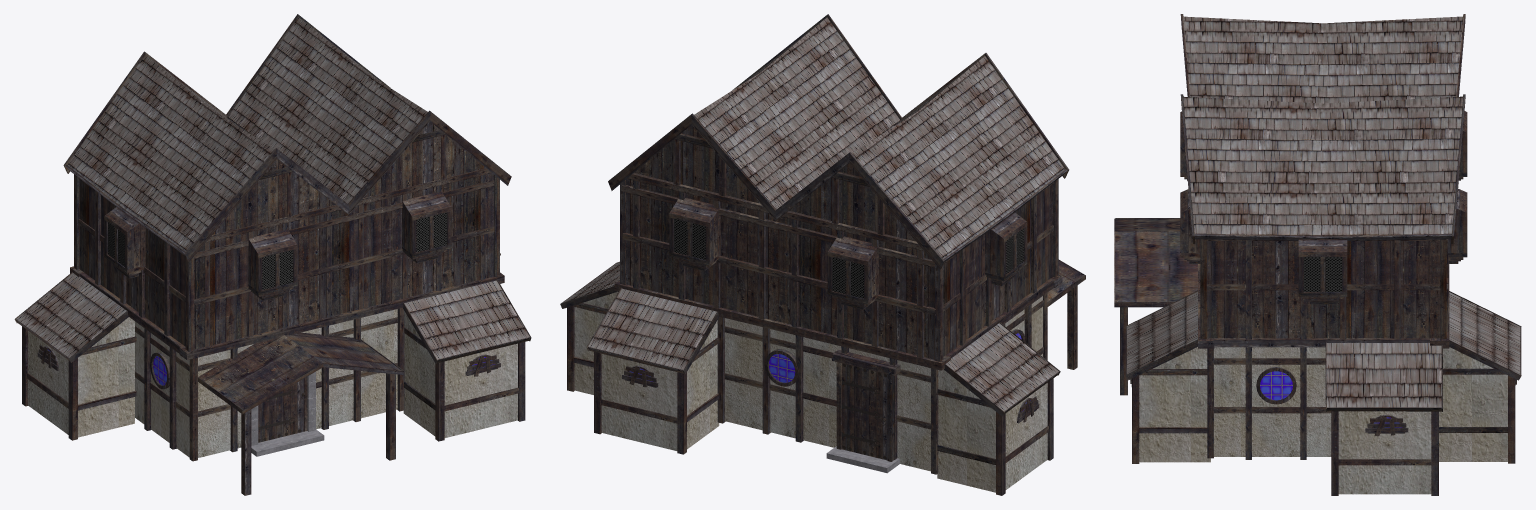
Rendered from house45.dae.
3 renders of one model, left to right at view 1: azimuth 30°, elevation 25°; view 2: azimuth 150°, elevation 25°; view 3: azimuth 270°, elevation 25°, orthographic. The views are drawn at different scales.
Parts seen in each view (by area): view 1: House1_Roof, House1_Level2, House1_Level2_Beams, House1_Level1, BuildingExtensions4_003, BuildingExtensions4, Roof1Outer, House1_Level1_Beams, BuildingExtensions4Roof, House1_Roof_Frame, BuildingExtensions4Roof_003, House1_Level1_SeperatorBeams (+14 smaller); view 2: House1_Roof, House1_Level2, House1_Level2_Beams, House1_Level1, BuildingExtensions4_003, BuildingExtensions4_001, BuildingExtensions4Roof_001, House1_Level1_Beams, House1_Roof_Frame, BuildingExtensions4Roof_003, Door1, House1_Level1_SeperatorBeams (+16 smaller); view 3: House1_Roof, House1_Level2, House1_Level1, BuildingExtensions4Roof_002, BuildingExtensions4_002, BuildingExtensions4, BuildingExtensions4_001, Roof1Outer, House1_Level2_Beams, House1_Level1_Beams, BuildingExtensions4Roof_001, BuildingExtensions4Roof (+17 smaller).
Part boxes in pixels (x1,y1,x2,y2): House1_Roof: (67,17,427,251); House1_Level2: (79,121,493,349); House1_Level2_Beams: (74,130,499,351); House1_Level1: (135,309,397,457); BuildingExtensions4_003: (28,317,134,437); BuildingExtensions4: (403,311,517,437); Roof1Outer: (198,332,401,409); House1_Level1_Beams: (135,307,404,461); BuildingExtensions4Roof: (404,280,529,359); House1_Roof_Frame: (63,14,511,261); BuildingExtensions4Roof_003: (16,273,130,357); House1_Level1_SeperatorBeams: (70,266,504,360); House1_Roof: (694,17,1065,258); House1_Level2: (626,125,1052,359); House1_Level2_Beams: (620,133,1058,361); House1_Level1: (725,296,1042,471); BuildingExtensions4_003: (937,369,1047,492); BuildingExtensions4_001: (601,320,719,450); BuildingExtensions4Roof_001: (588,288,716,369); House1_Level1_Beams: (717,292,1047,474); House1_Roof_Frame: (608,14,1069,269); BuildingExtensions4Roof_003: (946,320,1058,411); Door1: (841,363,887,460); House1_Level1_SeperatorBeams: (614,274,1062,370); House1_Roof: (1183,16,1463,235); House1_Level2: (1206,241,1440,338); House1_Level1: (1214,347,1331,456); BuildingExtensions4Roof_002: (1326,343,1441,407); BuildingExtensions4_002: (1338,411,1431,494); BuildingExtensions4: (1139,347,1210,462); BuildingExtensions4_001: (1439,347,1507,461); Roof1Outer: (1115,219,1197,301); House1_Level2_Beams: (1200,239,1448,339); House1_Level1_Beams: (1207,347,1331,459); BuildingExtensions4Roof_001: (1449,292,1520,374); BuildingExtensions4Roof: (1127,292,1197,374).
Bounding box in the file's own units: 10.97 × 8.36 × 7.57.
Materials: 21 (21 with a texture image).
